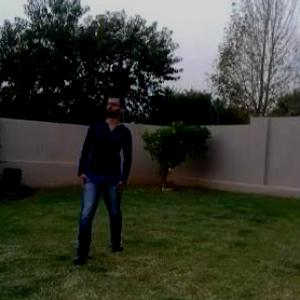follow: (72, 84, 134, 263)
